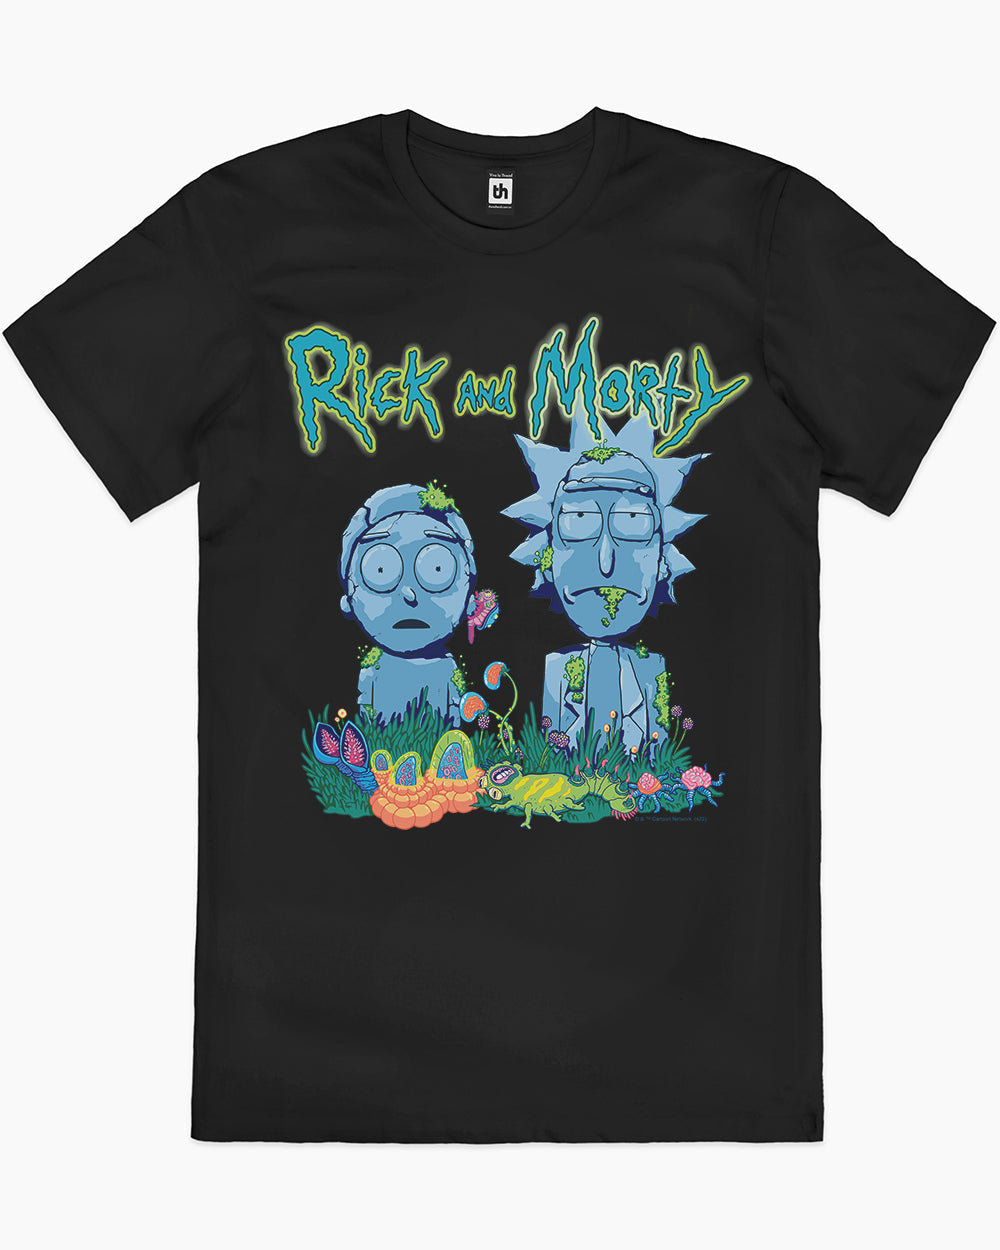design: (278, 311, 756, 837)
